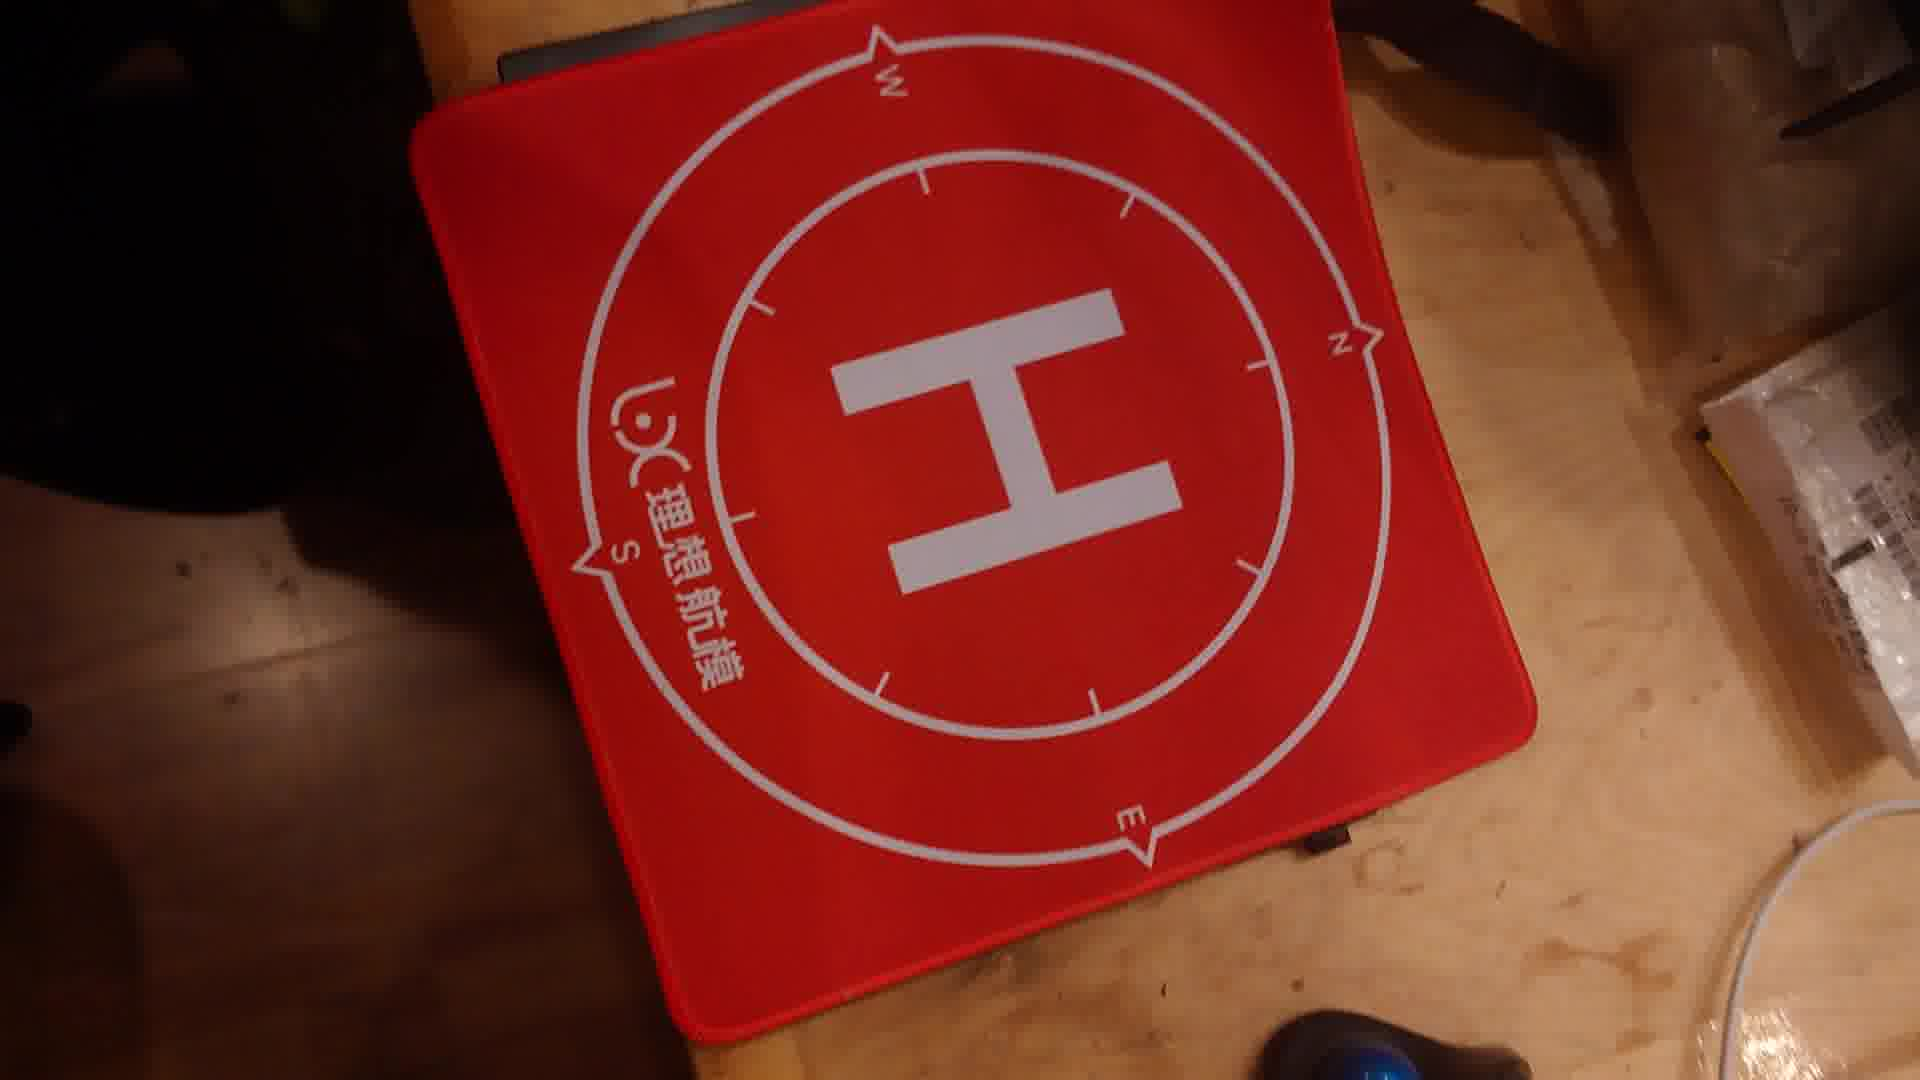H: (833, 287, 1188, 603)
